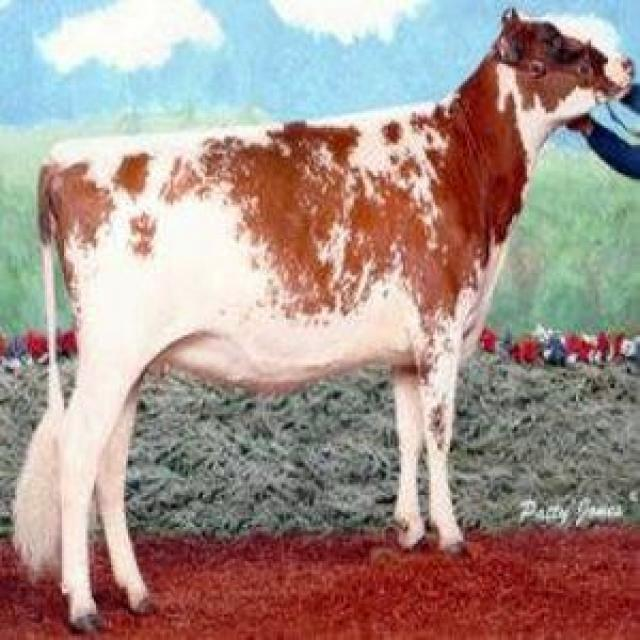cow: (14, 11, 634, 630)
